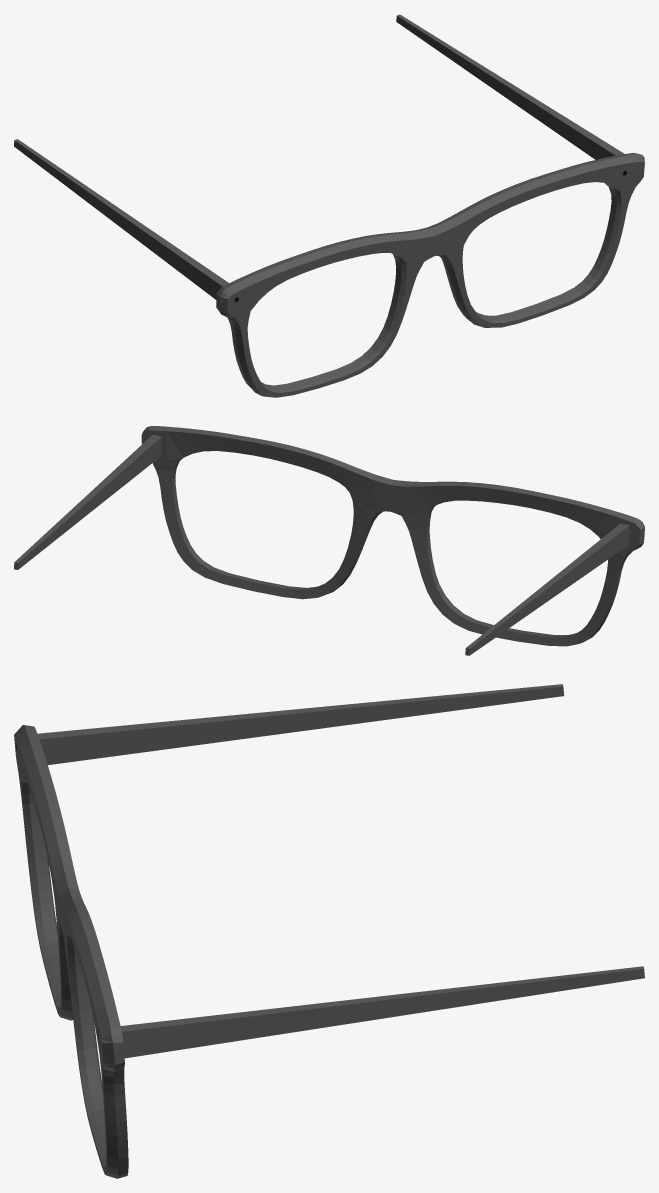
File: Glasses.fbx
3 views of the same model, one above another, from view 1: azimuth 30°, elevation 25°; view 2: azimuth 150°, elevation 25°; view 3: azimuth 270°, elevation 25° (orthographic). The views are drawn at different scales.
Parts seen in each view (by area): view 1: node_id4; view 2: node_id4; view 3: node_id4.
Boxes of the visible parts, x1,y1,x2,y2 form: node_id4: (14, 14, 644, 397); node_id4: (14, 426, 644, 655); node_id4: (14, 684, 644, 1178).
Size of the model in its own units: 0.5278 by 0.1642 by 0.4239.
Materials: 1 (1 with a texture image).
